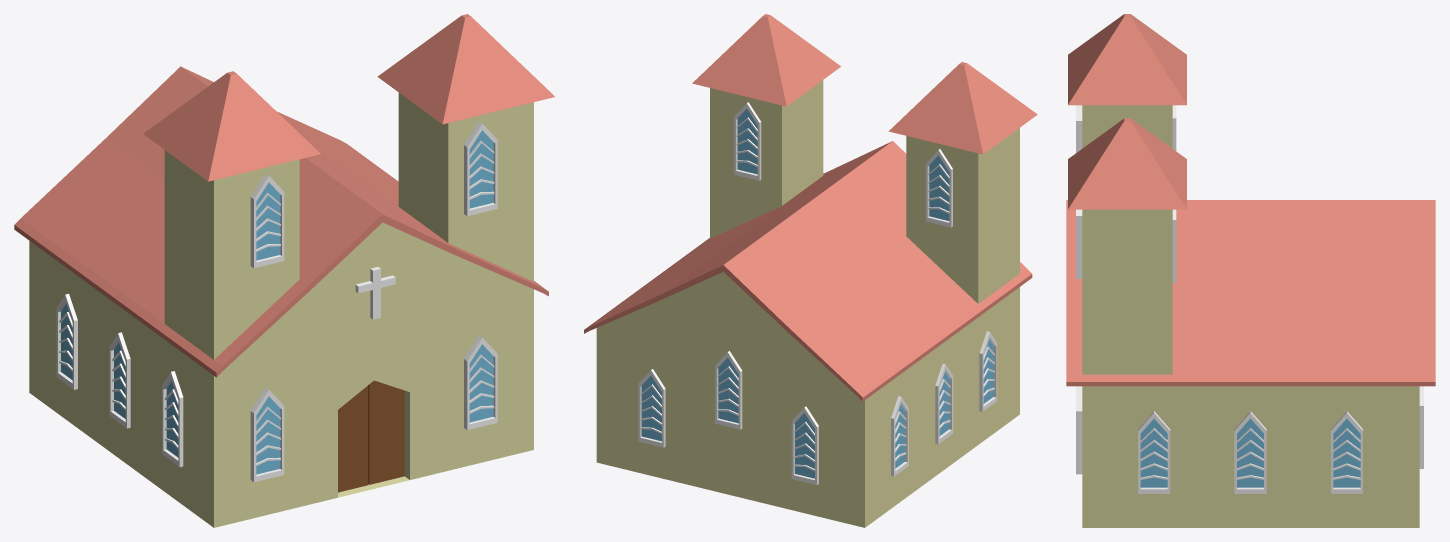
File: igreja.fbx
3 renders of one model, left to right at view 1: azimuth 30°, elevation 25°; view 2: azimuth 150°, elevation 25°; view 3: azimuth 270°, elevation 25°, orthographic. The views are drawn at different scales.
Parts seen in each view (by area): view 1: Cube.007; view 2: Cube.007; view 3: Cube.007.
Part boxes in pixels (box(x1,y1,x2,y2)): Cube.007: box(14, 14, 554, 527); Cube.007: box(584, 14, 1037, 527); Cube.007: box(1066, 14, 1435, 527).
Size of the model in its own units: 1053 by 1236 by 1062.
